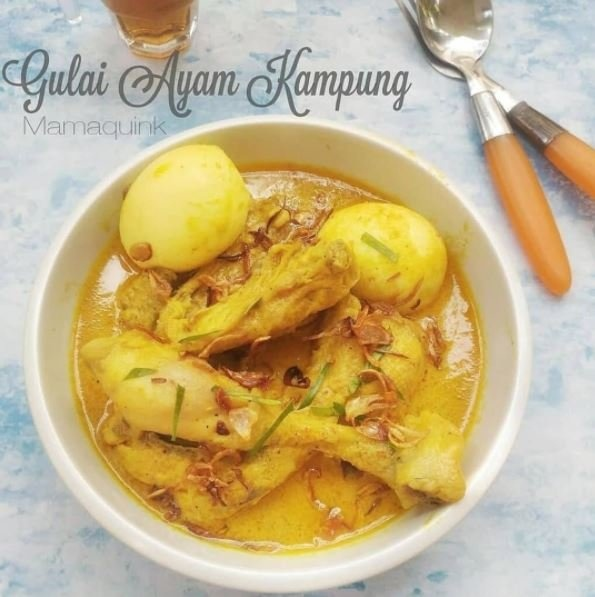gulai_ayam: (32, 148, 508, 556)
